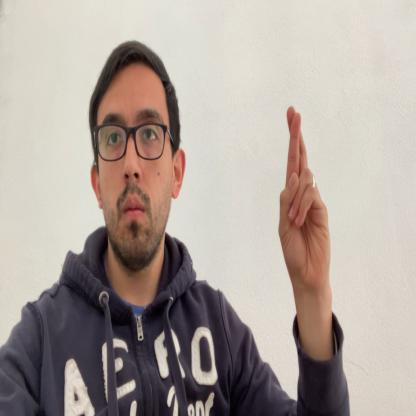R: (278, 104, 332, 307)
